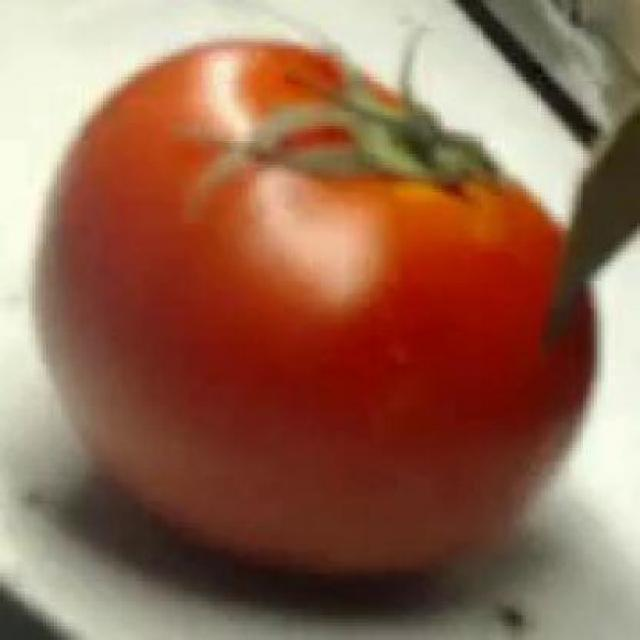tomato: (43, 43, 603, 569)
